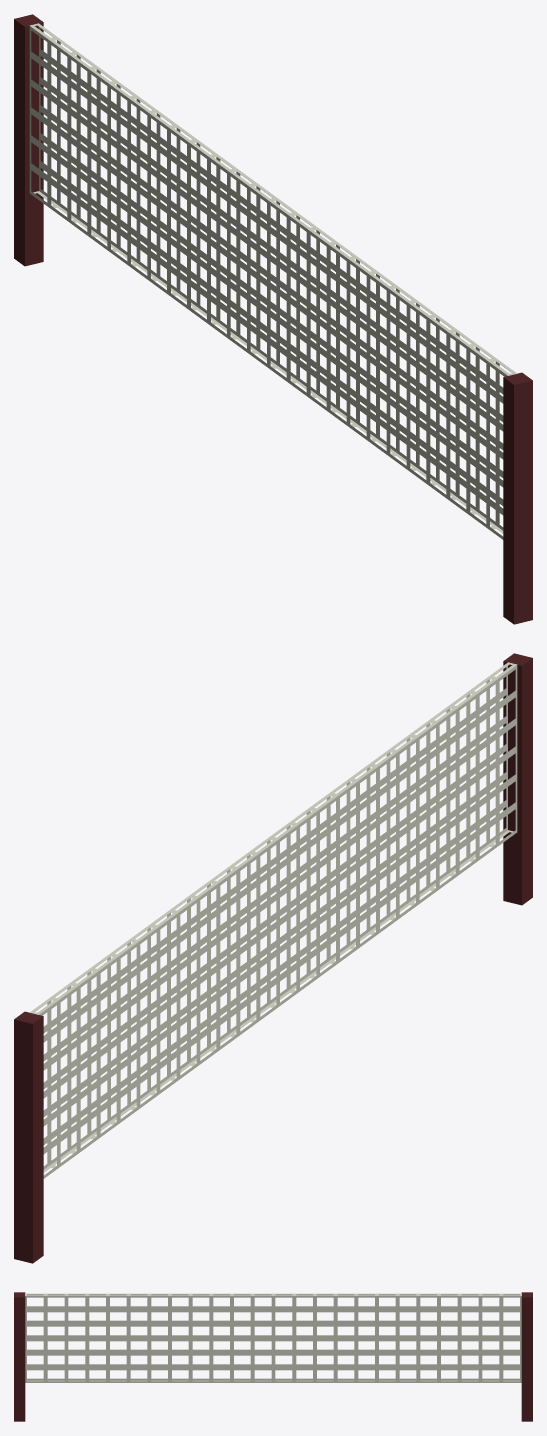
The model's file is net.glb.
The picture shows the model from 3 angles, top to bottom: view 1: azimuth 30°, elevation 25°; view 2: azimuth 150°, elevation 25°; view 3: azimuth 270°, elevation 25°; orthographic projection. The views are drawn at different scales.
Parts seen in each view (by area): view 1: Cube.001; view 2: Cube.001; view 3: Cube.001.
Boxes of the visible parts, x1=… form: Cube.001: x1=14, y1=14, x2=532, y2=624; Cube.001: x1=14, y1=653, x2=532, y2=1263; Cube.001: x1=14, y1=1292, x2=532, y2=1421.
Size of the model in its own units: 0.4 by 4.86 by 18.39.
